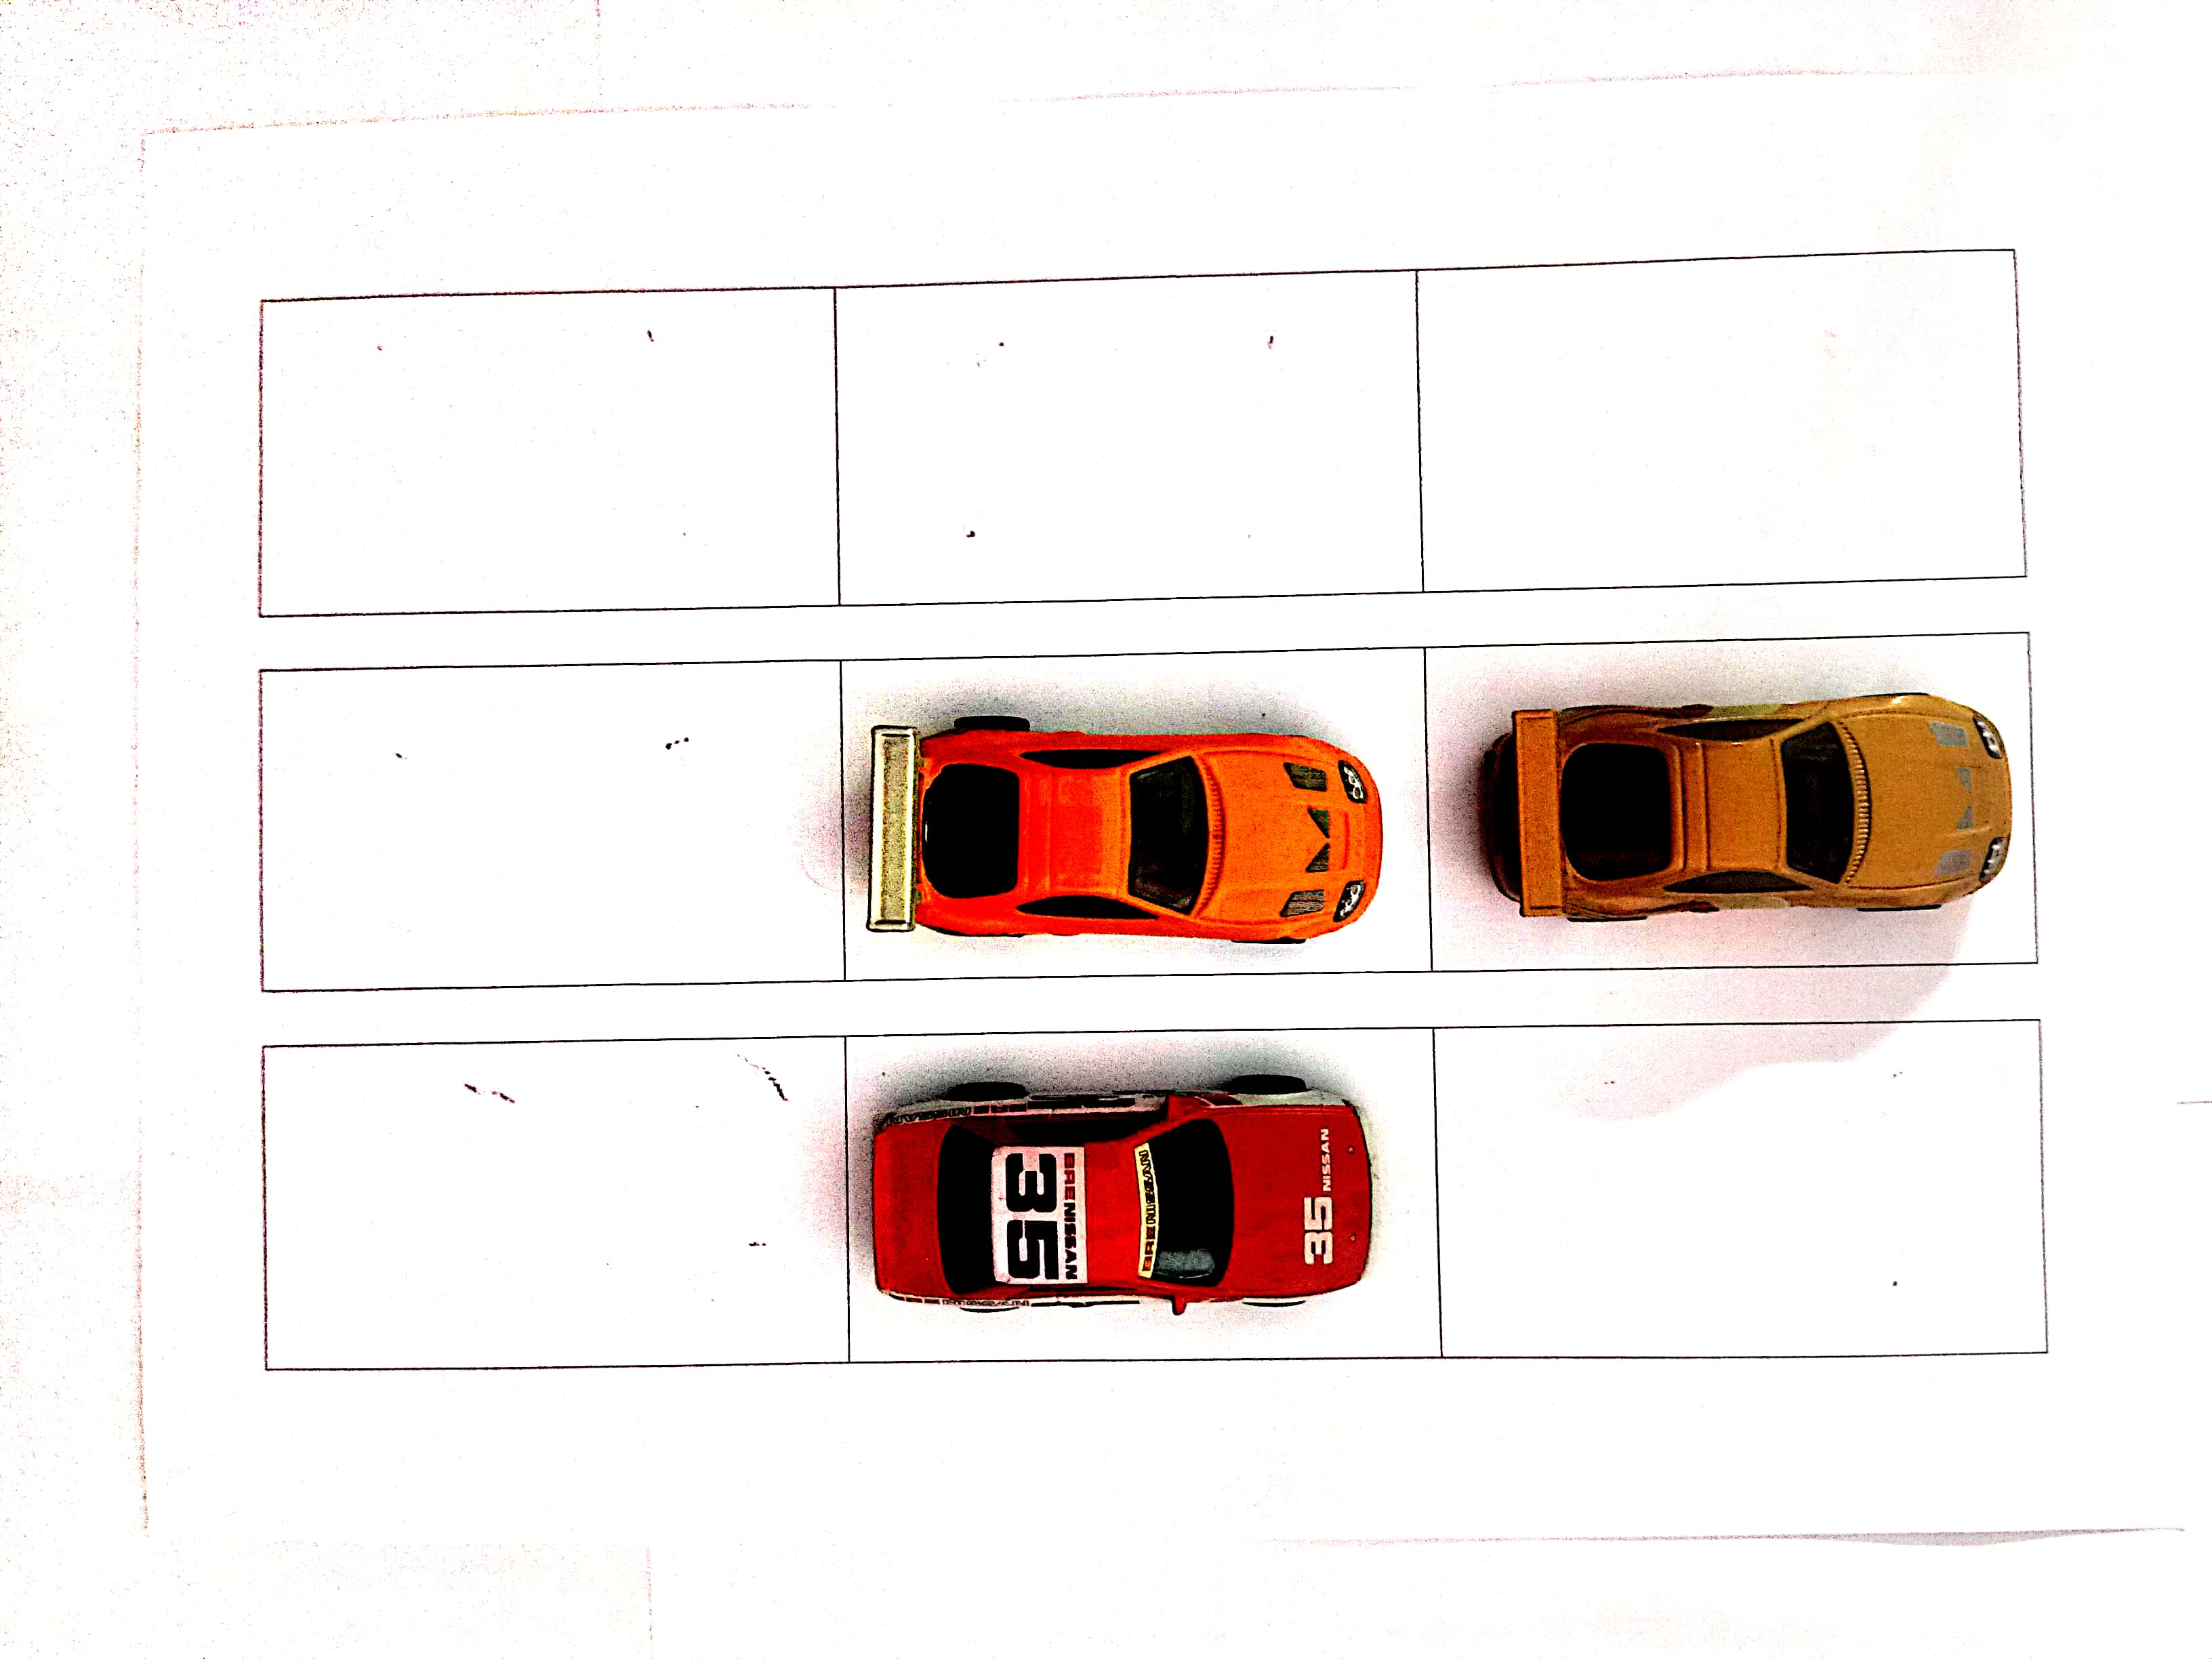Busy: (1433, 640, 2029, 967), (852, 1032, 1433, 1354), (848, 650, 1432, 971)
Free: (1433, 1023, 2045, 1351), (1432, 254, 2020, 586), (265, 1037, 840, 1366), (836, 275, 1423, 598), (261, 666, 840, 992), (261, 289, 831, 619)
